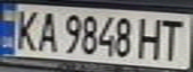4: (97, 14, 118, 57)
8: (112, 14, 139, 58), (78, 11, 100, 56)
9: (60, 10, 84, 55)
A: (33, 8, 60, 53)
H: (136, 14, 166, 61)
K: (9, 6, 42, 52)
T: (157, 16, 187, 61)
